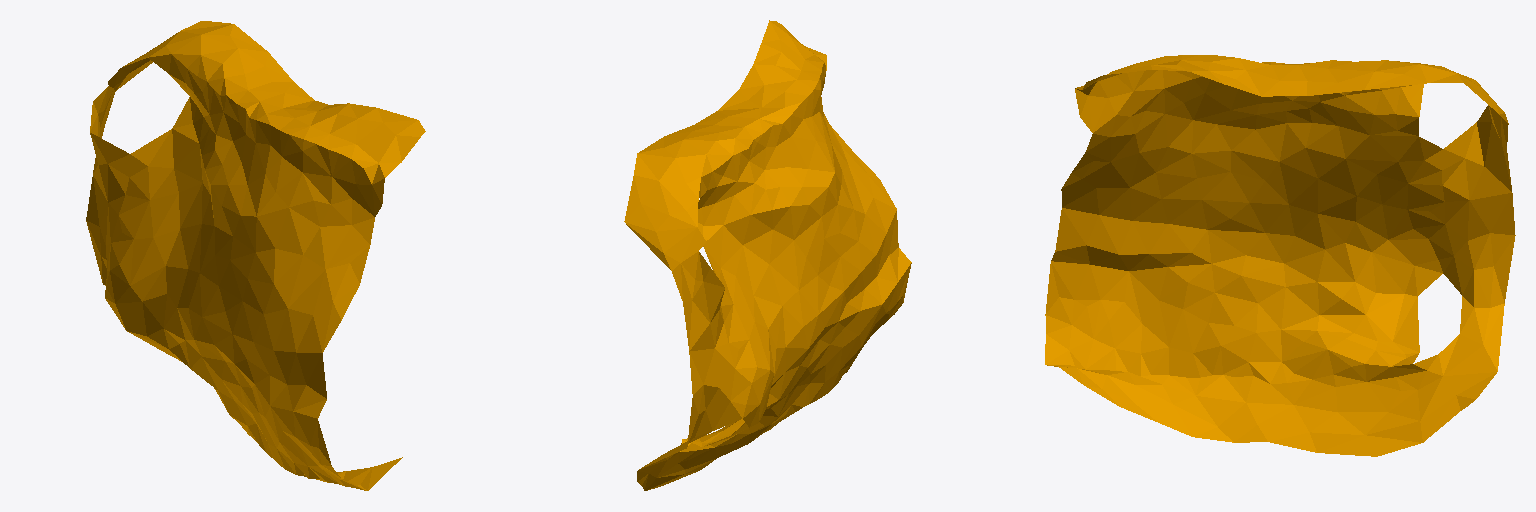
robot.urdf — init:
<?xml version='1.0' encoding='utf-8'?>
<robot name="init">
<link name="link_0"><inertial><mass value="1.0" /><origin rpy="0 0 0" xyz="0.000000 0.000000 0.000000" /><inertia ixx="1.0" ixy="0.0" ixz="0.0" iyy="1.0" iyz="0.0" izz="1.0" /></inertial><visual><origin rpy="0 0 0" xyz="0.000000 0.000000 0.000000" /><geometry><mesh filename="./clothHuman/cloth/2526.obj" /></geometry></visual><collision><origin rpy="0 0 0" xyz="0.000000 0.000000 0.000000" /><geometry><mesh filename="./clothHuman/cloth/2526.obj" /></geometry></collision></link></robot>

--- Facts derived from the render (not from the file) ---
3 views of the same robot in one strip: view 1: azimuth 30°, elevation 25°; view 2: azimuth 150°, elevation 25°; view 3: azimuth 270°, elevation 25° (orthographic).
Model init with 1 links and 0 joints (none), rooted at link_0, posed every joint at zero.
Links seen in each view (by area): view 1: link_0; view 2: link_0; view 3: link_0.
Link boxes in pixels (bbox=[...]): link_0: bbox=[86, 21, 425, 490]; link_0: bbox=[624, 20, 911, 490]; link_0: bbox=[1045, 55, 1515, 456].
Bounding box of the posed robot: 1.41 × 3.95 × 3.64 m (x, y, z).
1 mesh visuals loaded from 1 distinct referenced files (1 OBJ).